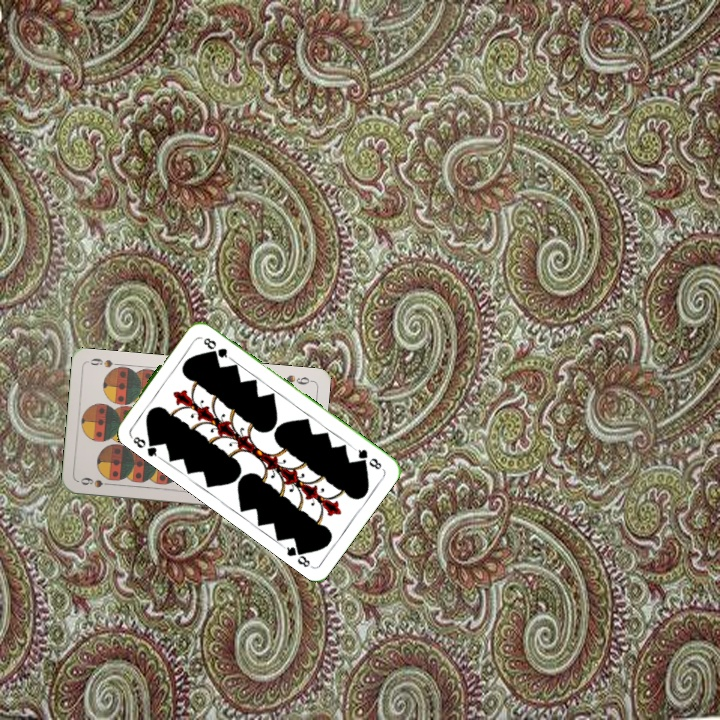G8: (126, 431, 161, 460), (350, 444, 384, 472)
S9: (77, 473, 116, 490), (282, 371, 314, 388)
